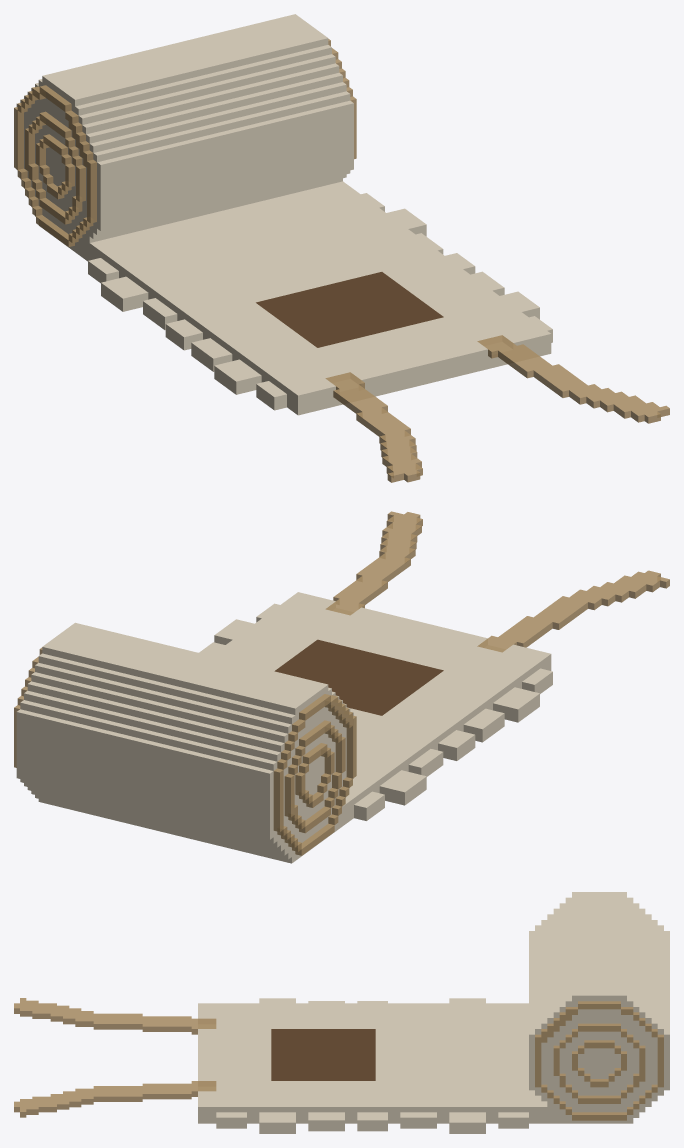
File: chestwrap_fur.glb
The picture shows the model from 3 angles, top to bottom: view 1: azimuth 30°, elevation 25°; view 2: azimuth 150°, elevation 25°; view 3: azimuth 270°, elevation 25°; orthographic projection. The views are drawn at different scales.
Visible parts, largest first — view 1: chestwrap_fur:compound; view 2: chestwrap_fur:compound; view 3: chestwrap_fur:compound.
Boxes of the visible parts, x1,y1,x2,y2 form: chestwrap_fur:compound: [14, 14, 669, 482]; chestwrap_fur:compound: [14, 511, 669, 863]; chestwrap_fur:compound: [14, 892, 669, 1133].
Size of the model in its own units: 0.192 by 0.092 by 0.428.
